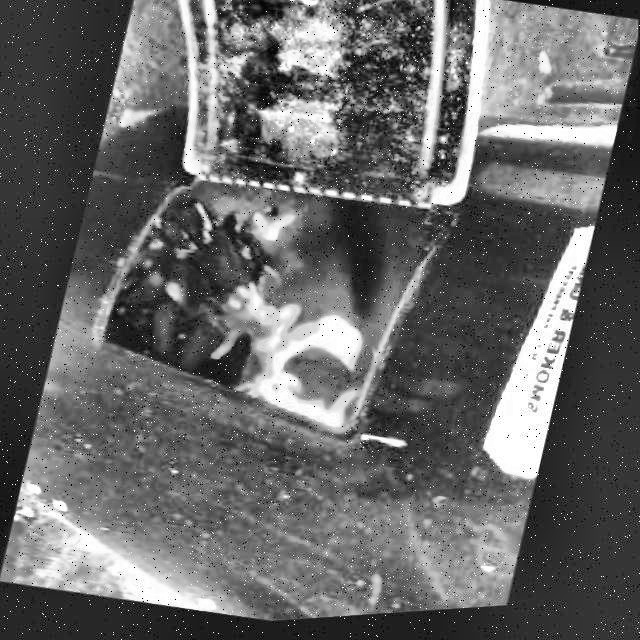Fire: (197, 195, 416, 446)
